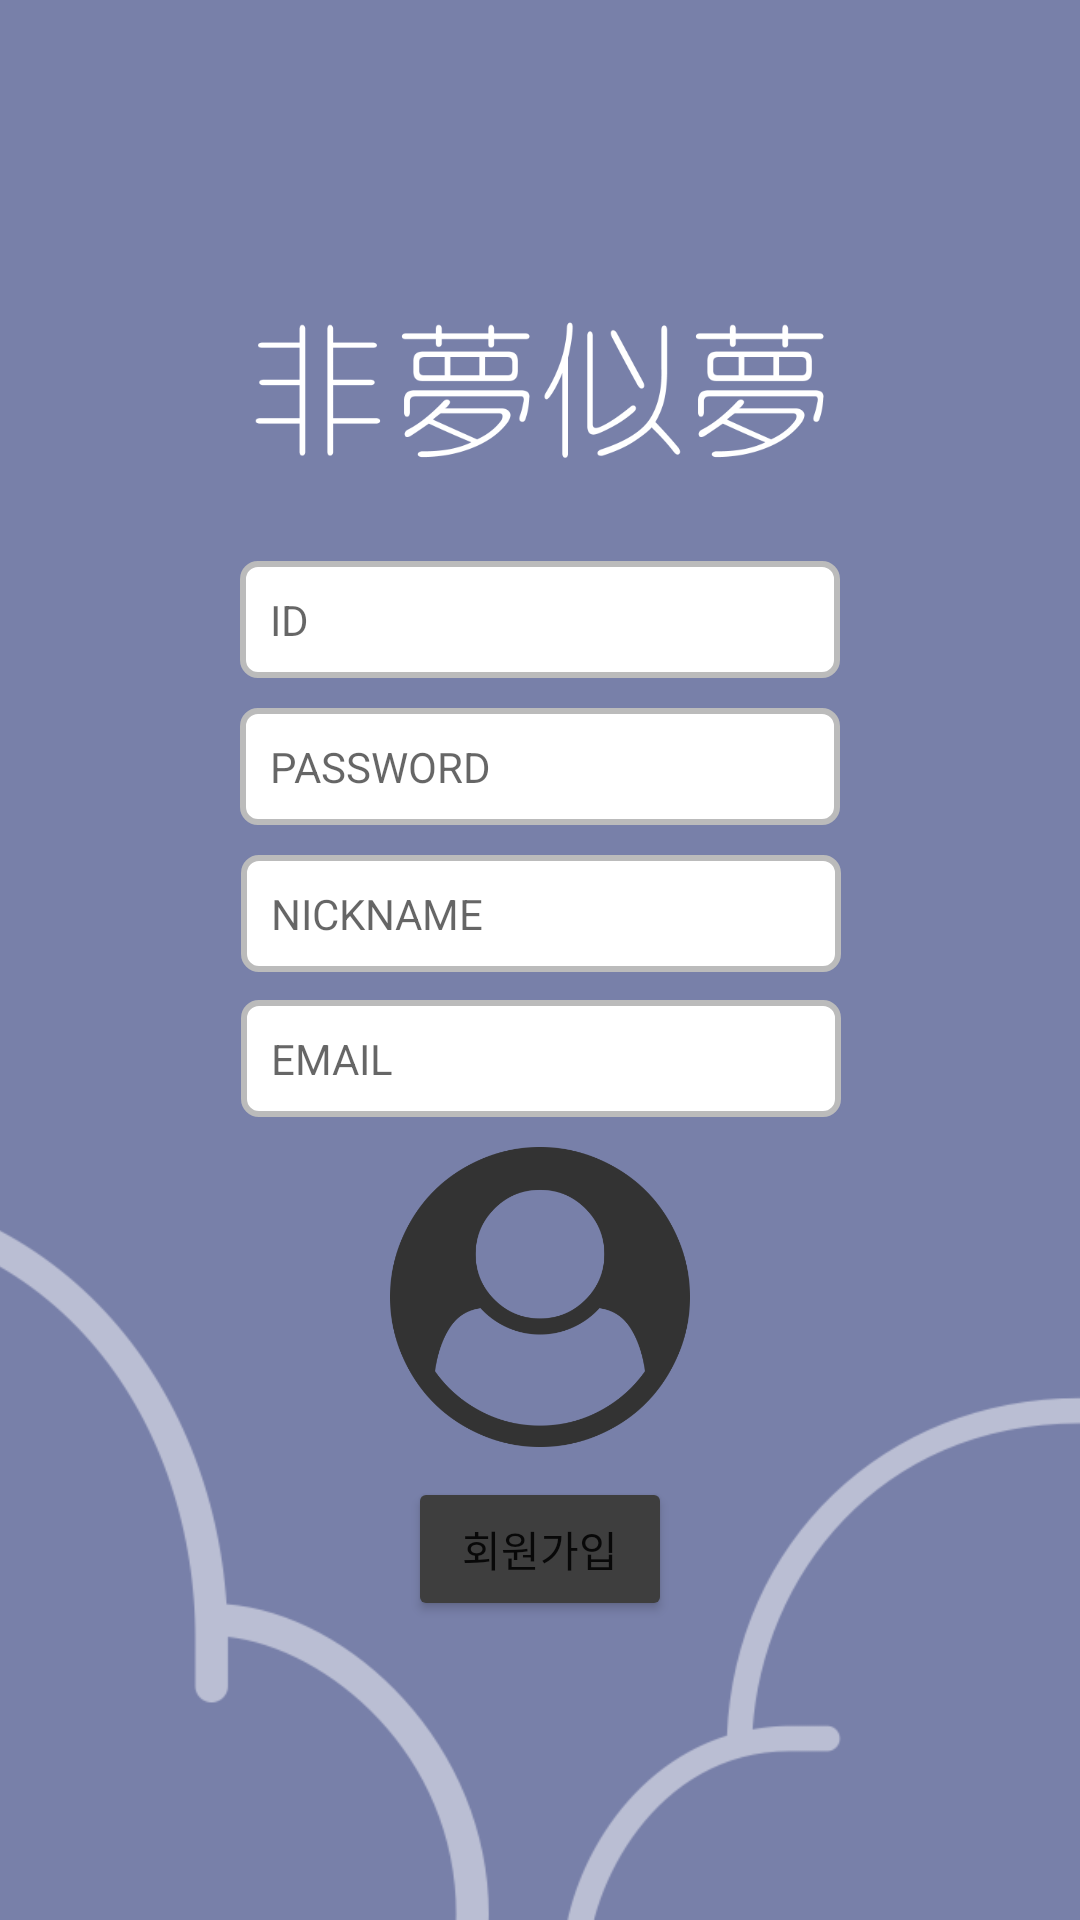

Locate icon controls on the screen. Image size 1080*1920, boxes as (x1, y1, x2, y2).
empty user: (390, 1147, 690, 1447)
